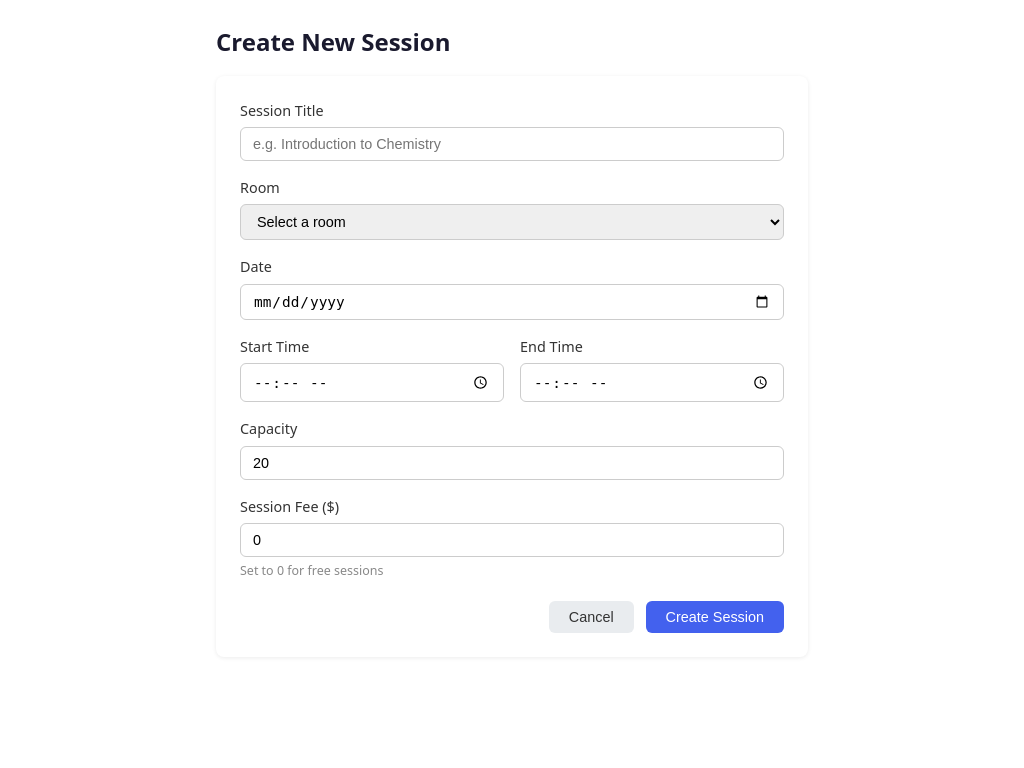
SessionCreatePage — Conflict Modal › renders the form and shows conflict modal after submit
In the field labelled "Session Title": (512, 144) [240,127,784,161], type "Test Session"
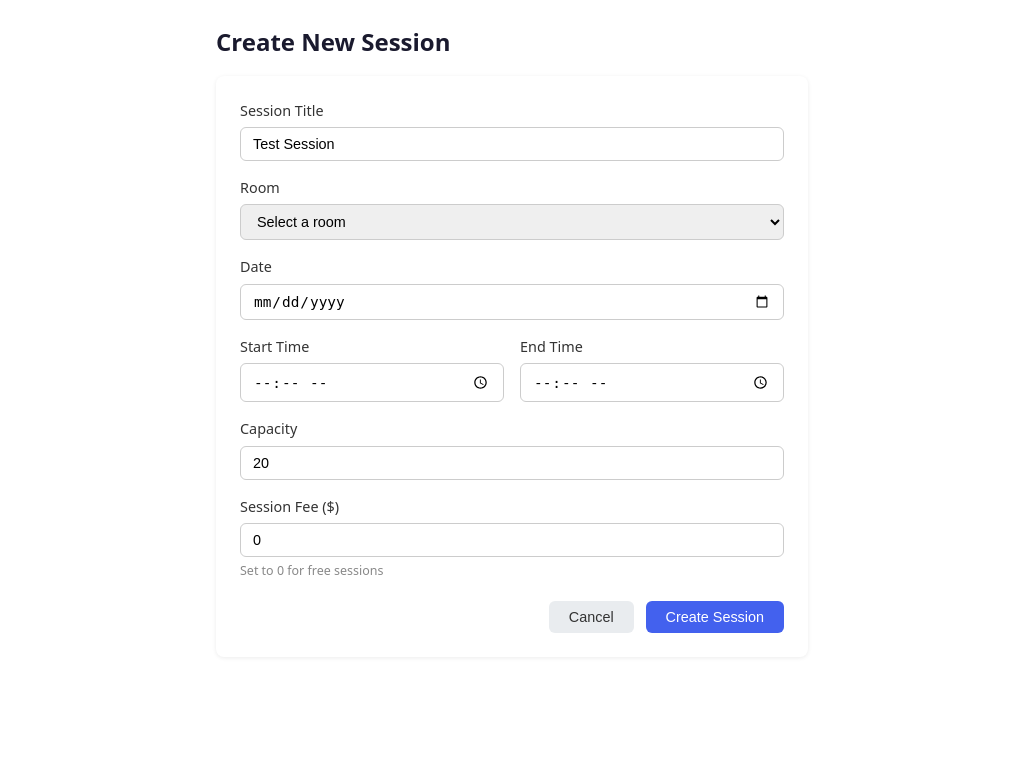
In the date field labelled "Date": (512, 302) [240,284,784,320], type "2026-05-01"
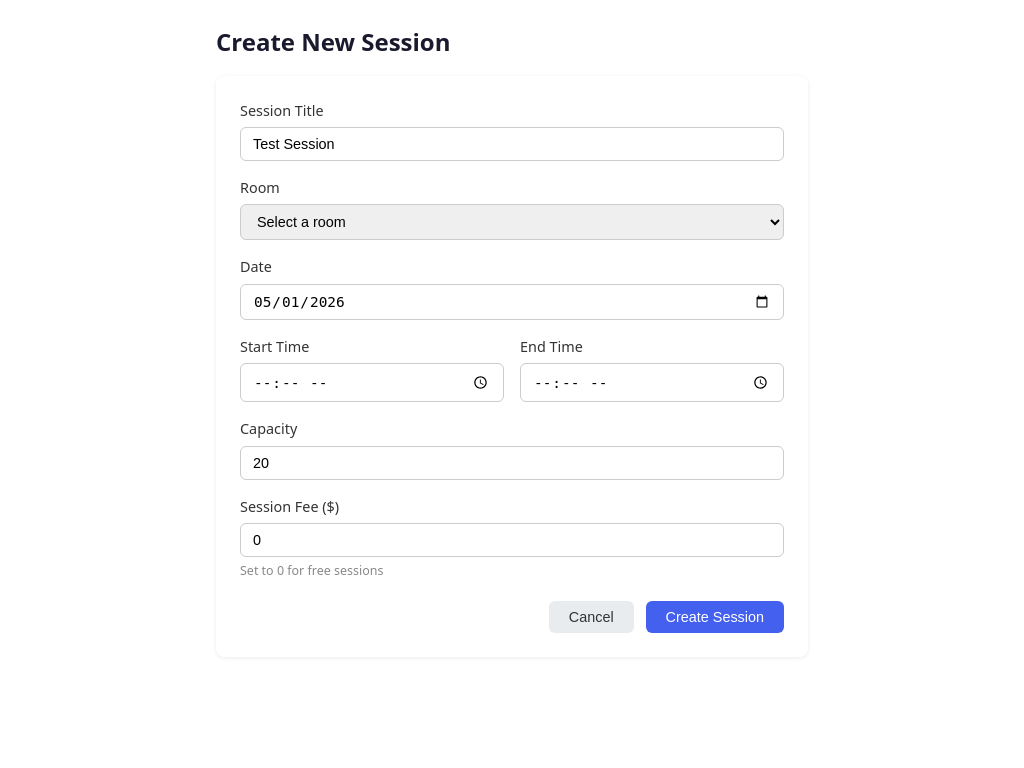
In the time field labelled "Start Time": (372, 383) [240,363,504,402], type "09:00"
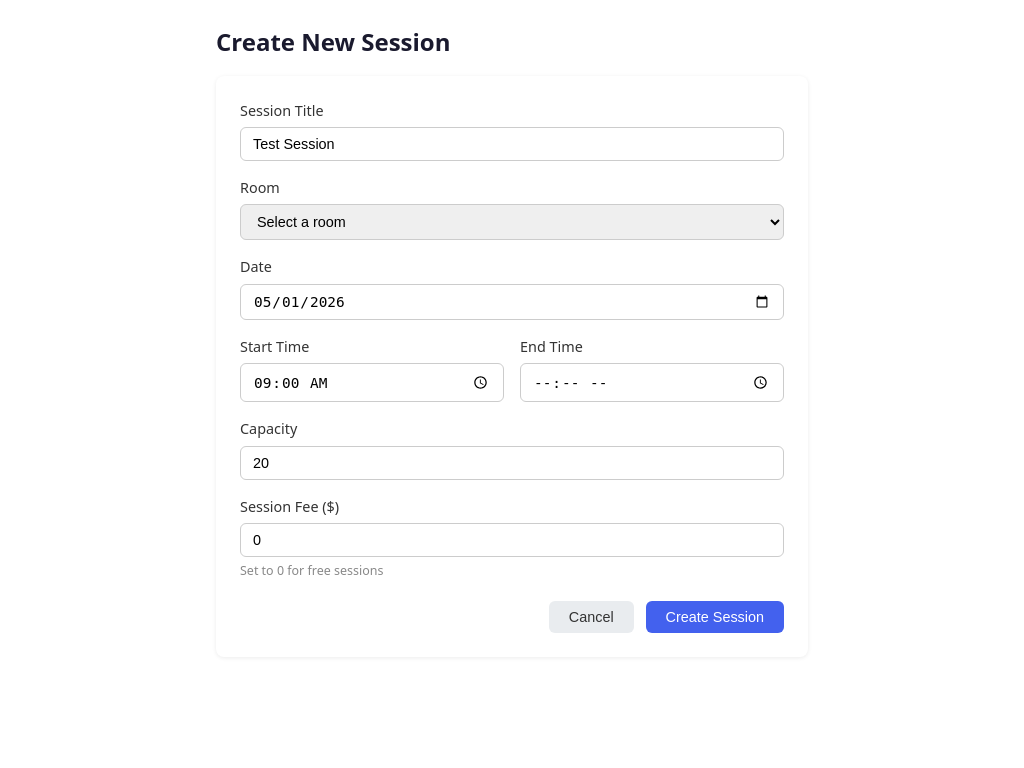
In the time field labelled "End Time": (652, 383) [520,363,784,402], type "11:00"
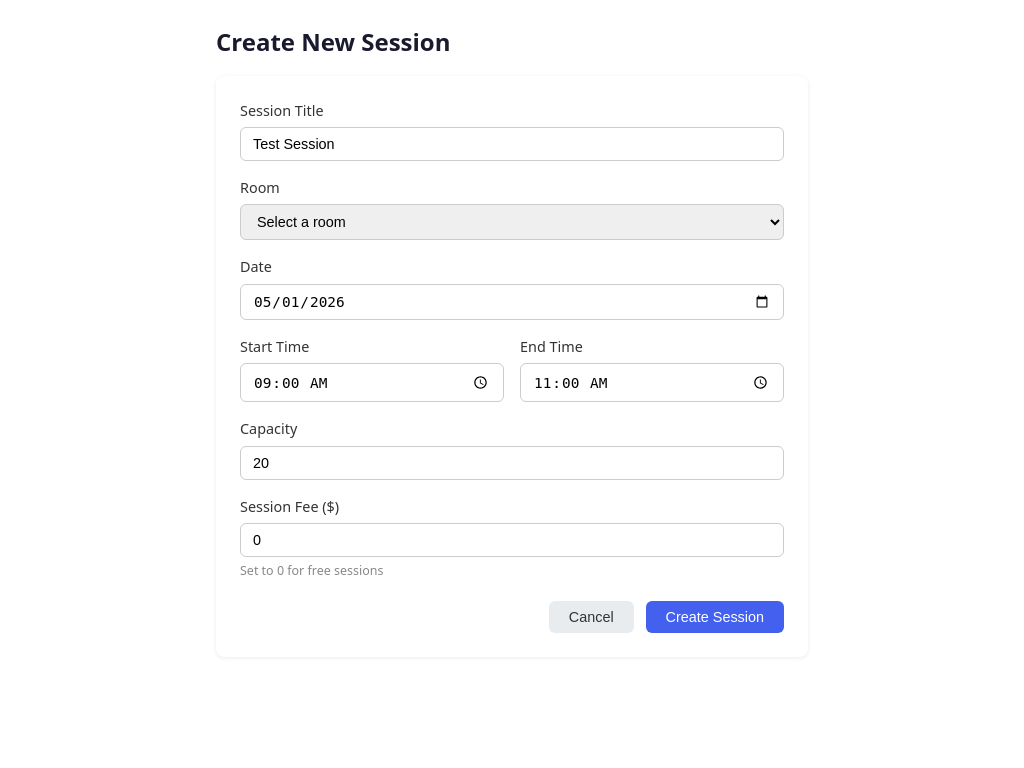
Select "Room Alpha (B1 - Floor F1, Cap: 30)" in the dropdown labelled "Room": (512, 222) [240,204,784,240]
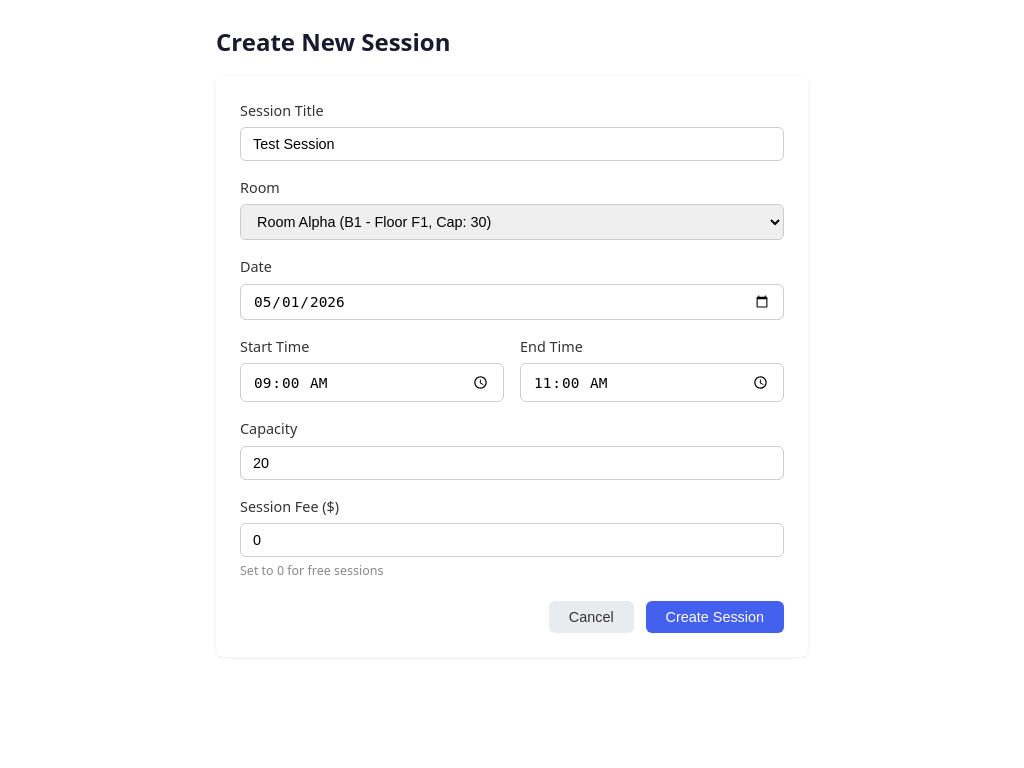
Note: Submit the form
Click the button "Create Session": click(715, 617) [646,601,784,633]
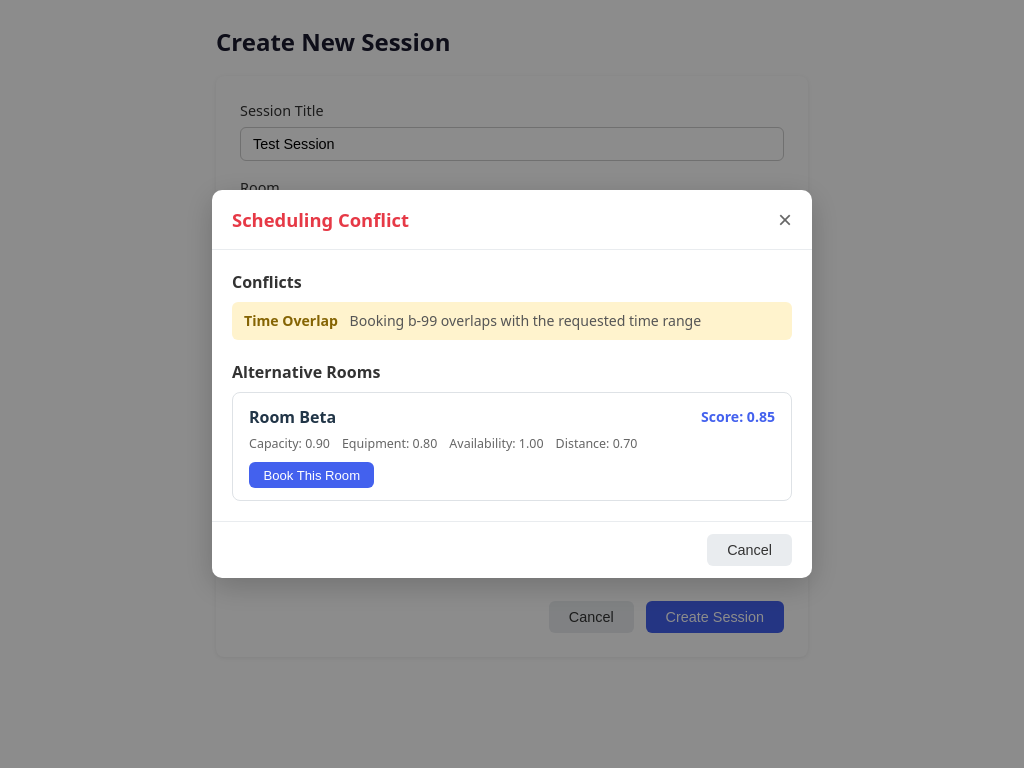
Check: the heading "Scheduling Conflict" is shown, box [232,206,409,233]
Check: the text "time overlap" is shown, box [244,311,338,330]
Check: the text "Booking b-99 overlaps with the requested time range" is shown, box [350,311,701,330]
